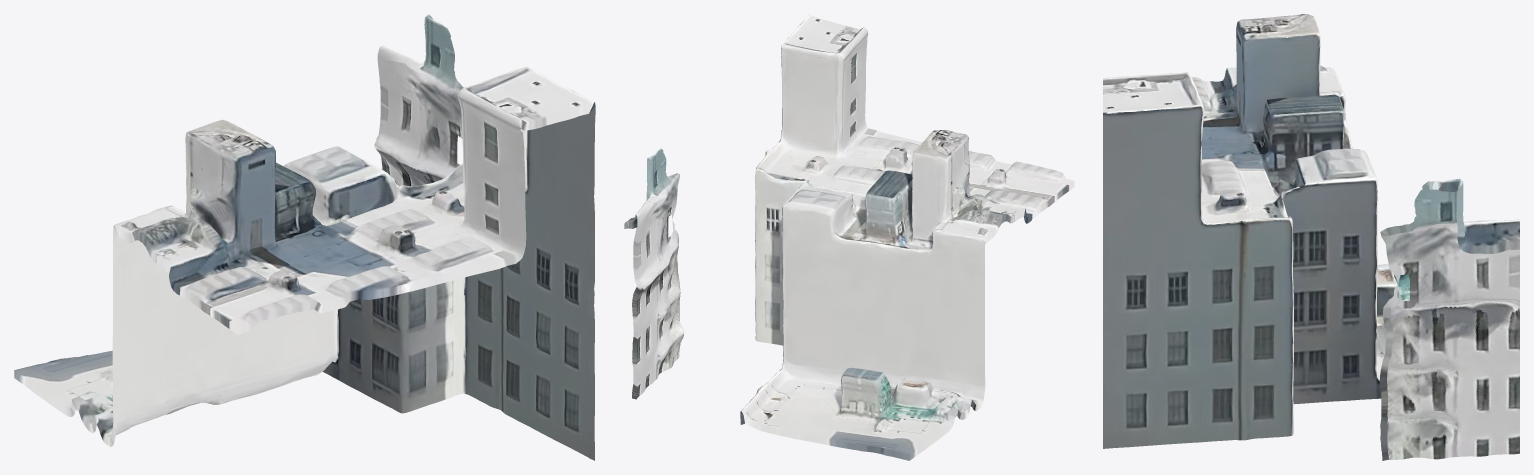
The model's file is z20-167758-405240-h1-yup-uvflip-v3-world.glb.
3 renders of one model, left to right at view 1: azimuth 30°, elevation 25°; view 2: azimuth 150°, elevation 25°; view 3: azimuth 270°, elevation 25°, orthographic. The views are drawn at different scales.
Size of the model in its own units: 30.2 by 27.2 by 30.32.
1 material, 1 textured.
